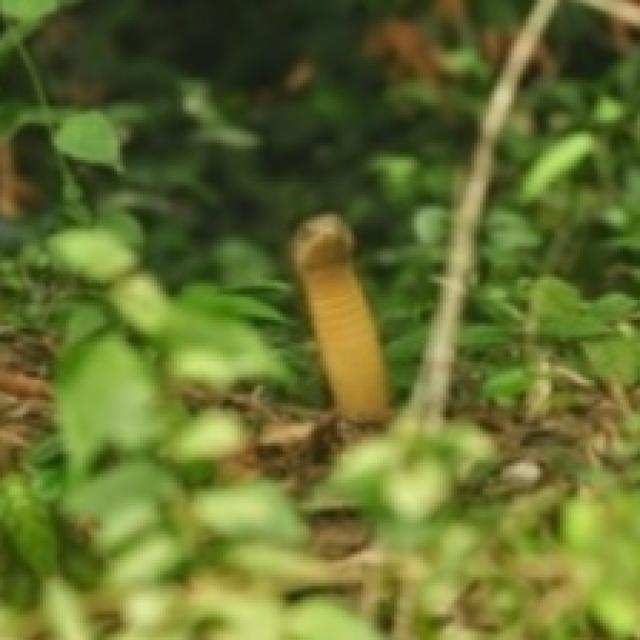king cobra: (291, 214, 386, 417)
